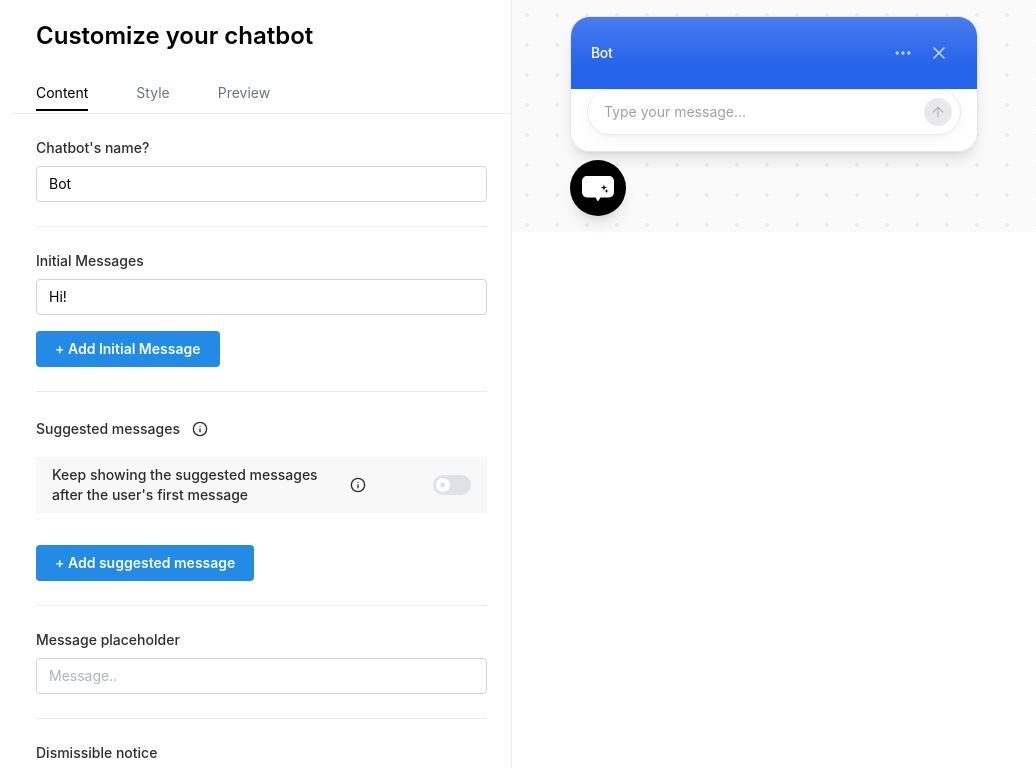
it: Customize › rendering › shows the unsaved-changes bar after the form is edited
In the field with placeholder "Luna AI" below "Chatbot's name?": (262, 184) [36,166,487,202], type "X"
(page scrolled)
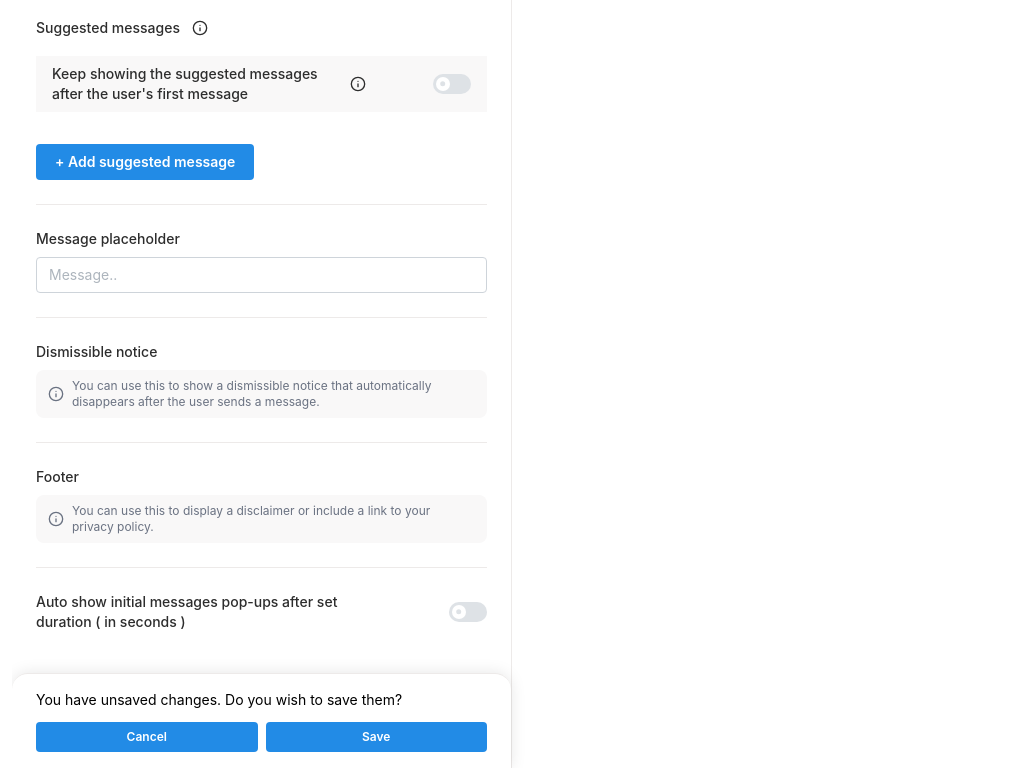
Expected: the text "You have unsaved changes. Do you wish to save them?" is shown, [36,691,402,708]
